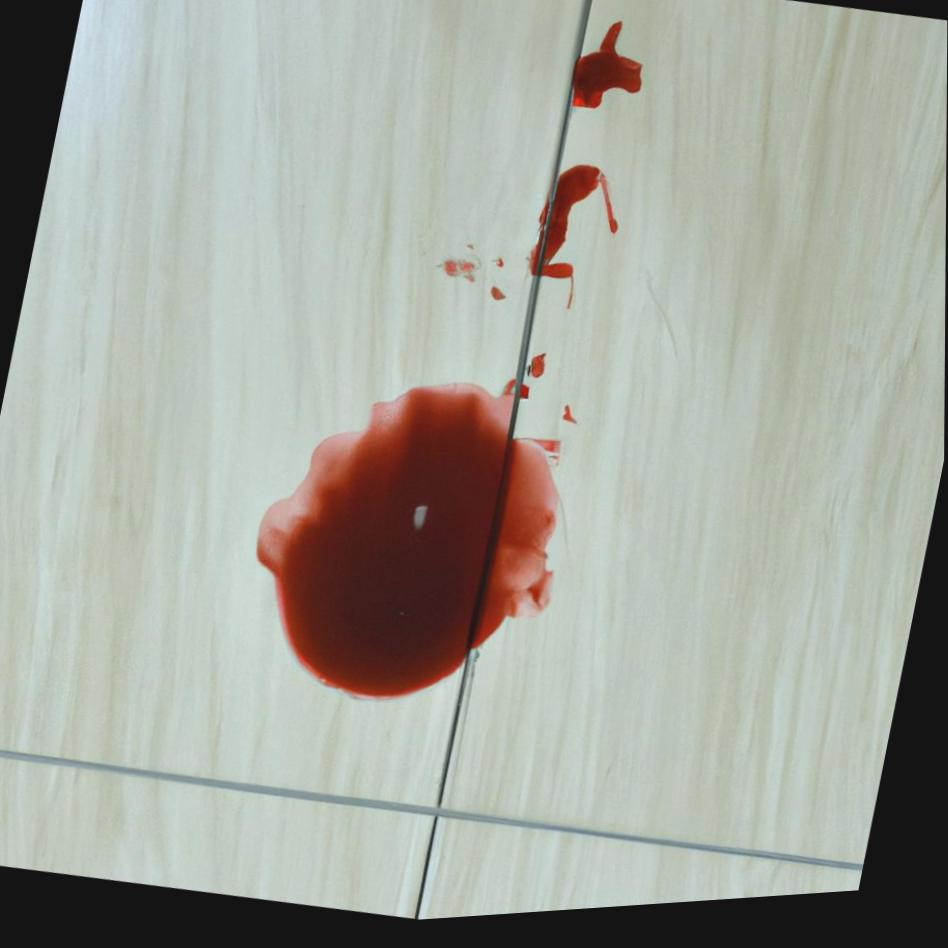Fire: (256, 387, 561, 707), (539, 173, 601, 288), (527, 204, 551, 284)
